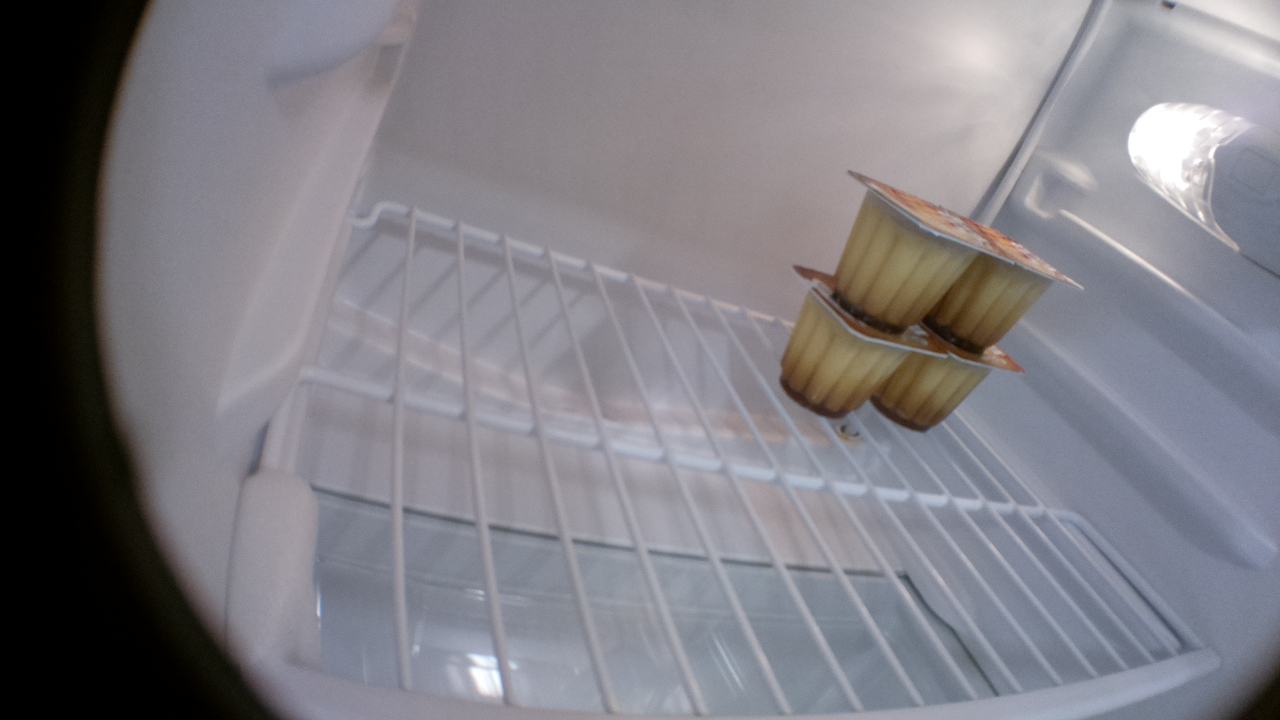caramel: (828, 164, 1016, 334), (778, 256, 951, 420), (922, 210, 1088, 353), (867, 319, 1028, 433)
